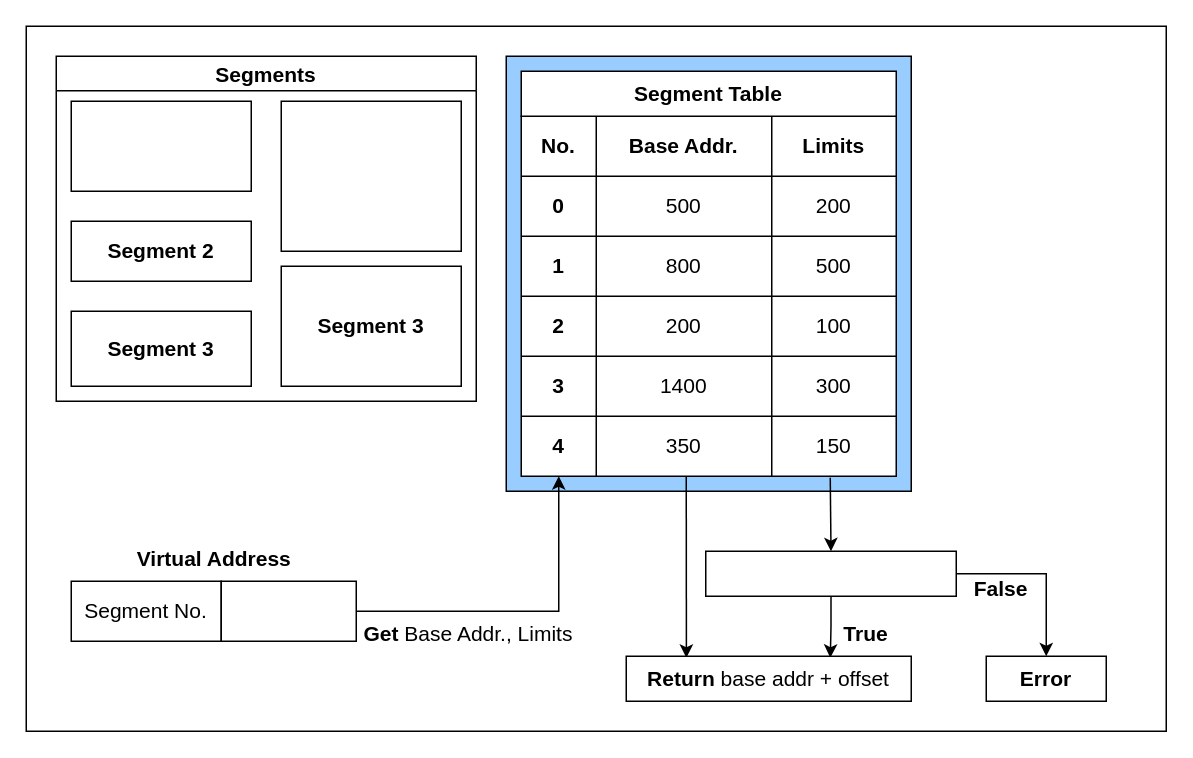
This 1193x758 diagram has some shape labels left out. Each missing label, with the centre of its shape:
"Check if offset < limits" goes at (x=830, y=573).
"offset" goes at (x=288, y=610).
"Segment 0" goes at (x=160, y=145).
"Segment 1" goes at (x=370, y=175).
